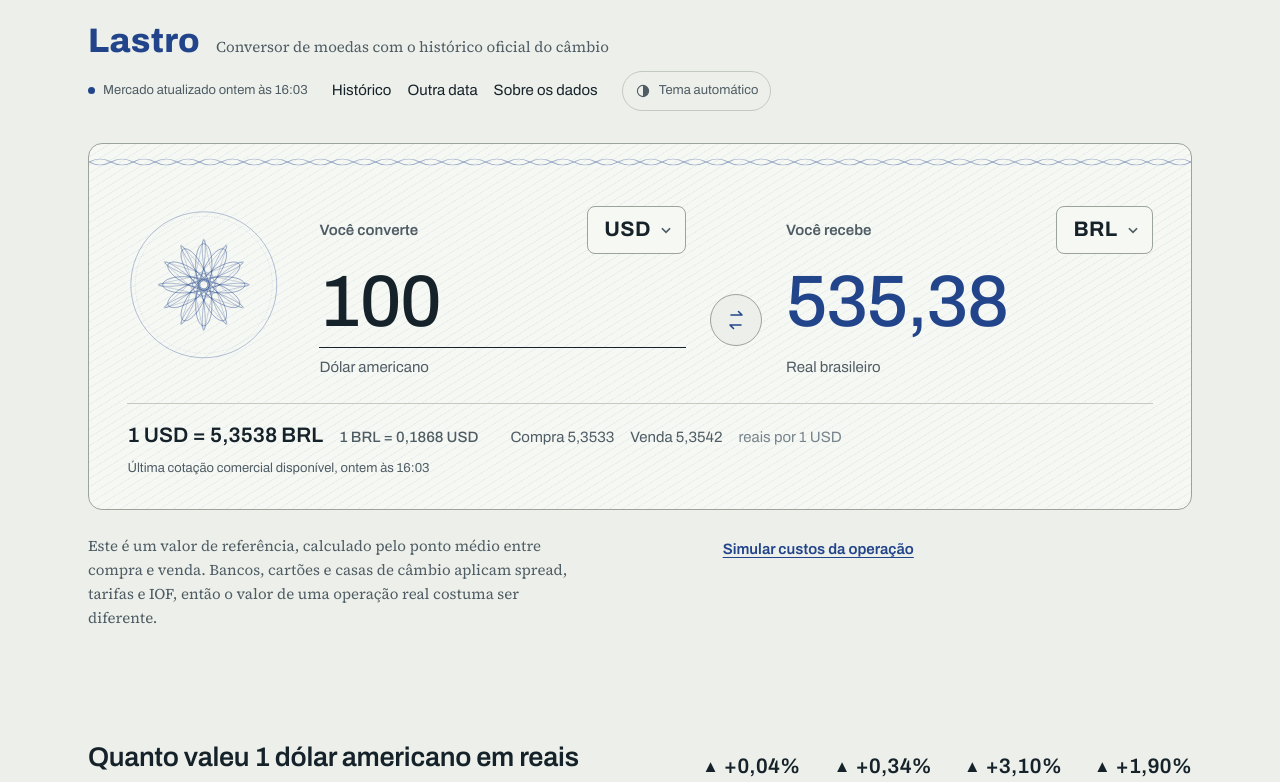
conversão › lê valores no padrão brasileiro e converte sem arredondar antes do fim
Expected: the text named "Você recebe" reads "535,38", x1=786 y1=262 x2=1007 y2=341
Replace the text in the field labelled "Você converte" with "1.234,56" at x=503, y=305, box x1=319 y1=262 x2=686 y2=348
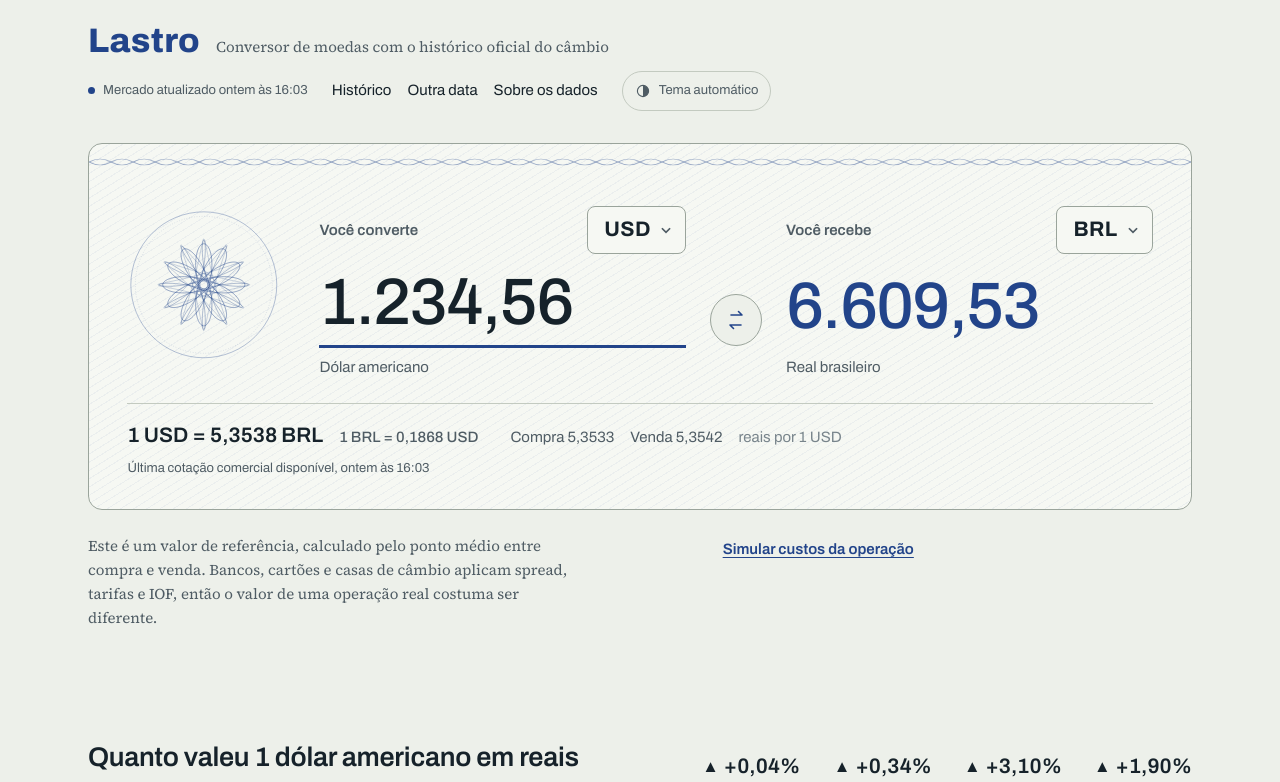
Expected: the text "1 USD = 5,3538 BRL" is shown, x1=127 y1=420 x2=323 y2=451
Expected: the text named "Você recebe" reads "6.609,53", x1=786 y1=270 x2=1039 y2=342
